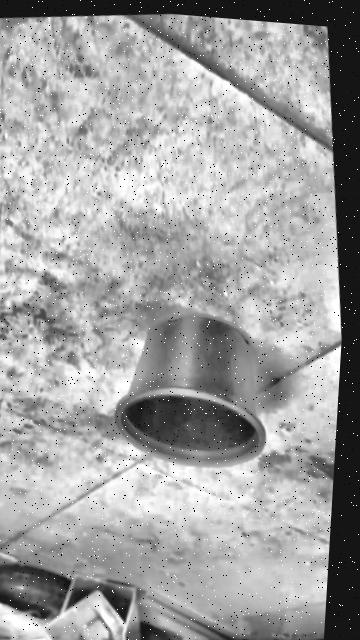pot: (100, 303, 274, 480)
